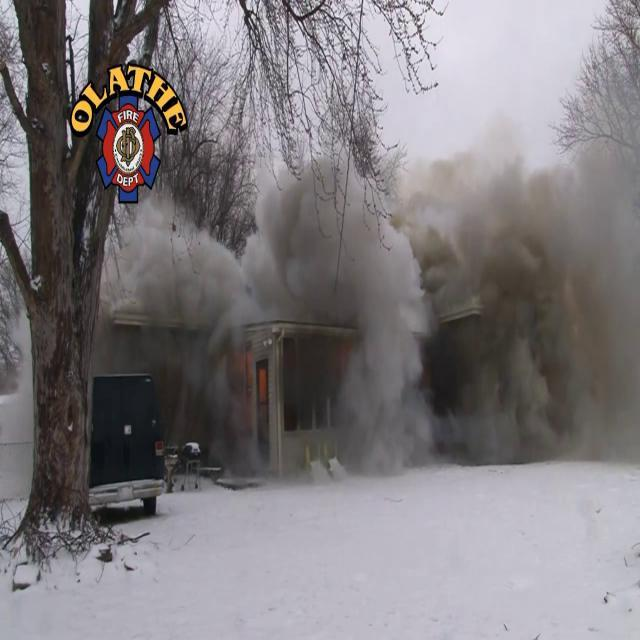Smoke: (86, 83, 640, 480), (249, 50, 640, 476)
